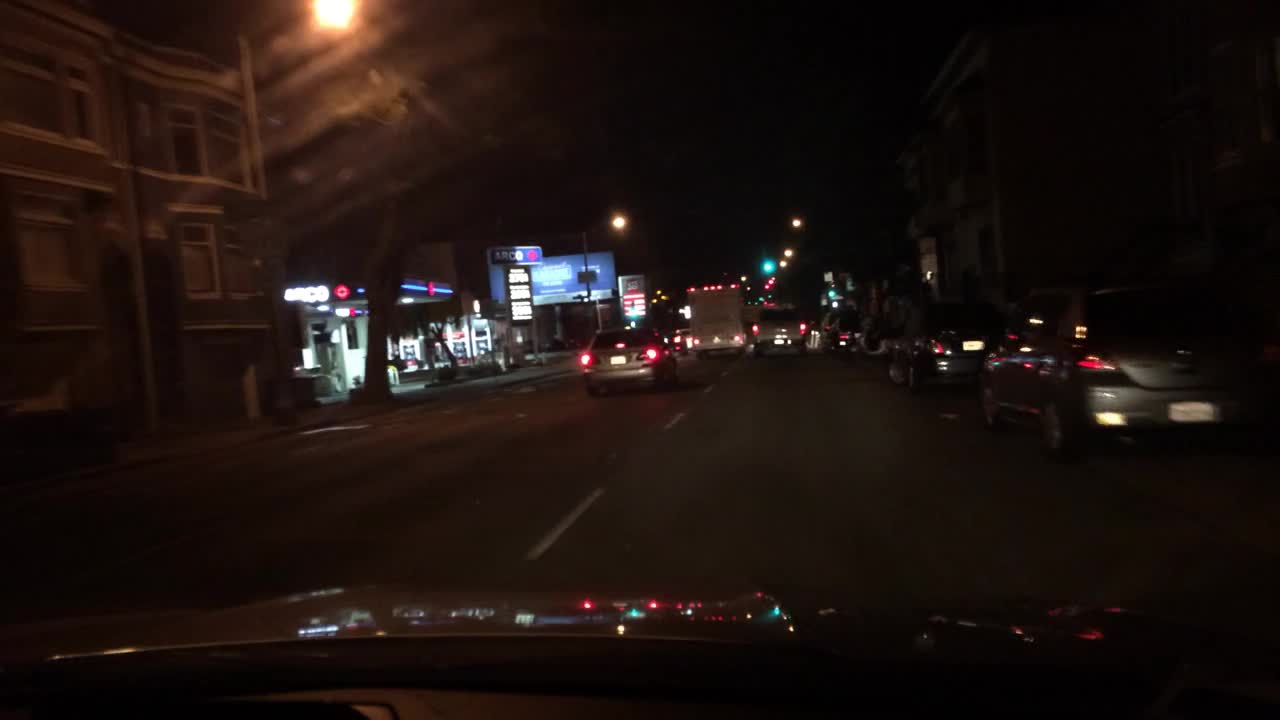car: (981, 284, 1258, 457), (887, 305, 1002, 390), (580, 327, 677, 396), (751, 307, 809, 353), (820, 316, 869, 353), (540, 338, 566, 352)
motor: (673, 343, 690, 356)
rider: (672, 329, 687, 343)
traffic light: (760, 259, 776, 274), (628, 303, 637, 319), (827, 283, 837, 296)
traffic sign: (576, 269, 597, 283), (822, 270, 834, 282)
truck: (689, 284, 752, 361)
